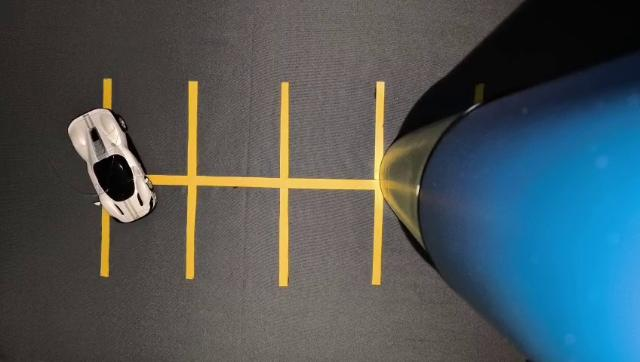toy_car: (47, 89, 165, 231)
